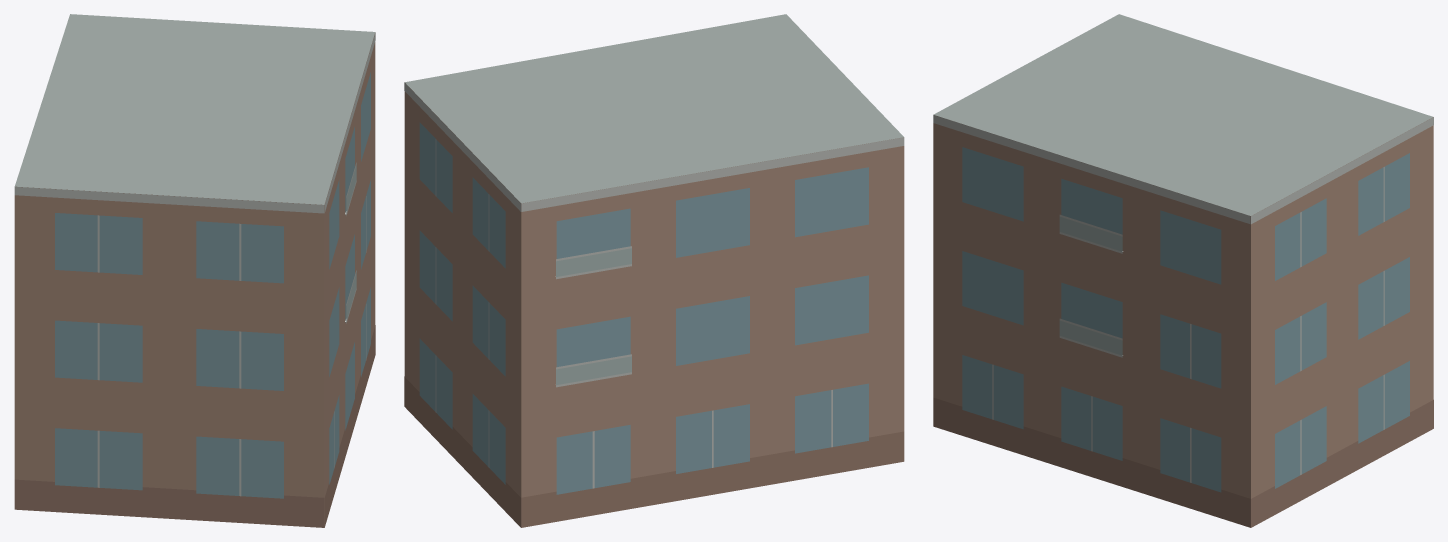
The model's file is survey-upis-32814905.glb.
3 views of the same model, side by side, from view 1: azimuth 30°, elevation 25°; view 2: azimuth 150°, elevation 25°; view 3: azimuth 270°, elevation 25° (orthographic). The views are drawn at different scales.
Visible parts, largest first — view 1: survey-upis-32814905.tmp; view 2: survey-upis-32814905.tmp; view 3: survey-upis-32814905.tmp.
Part boxes in pixels (x1=…): survey-upis-32814905.tmp: x1=14, y1=14, x2=375, y2=527; survey-upis-32814905.tmp: x1=404, y1=14, x2=904, y2=527; survey-upis-32814905.tmp: x1=933, y1=14, x2=1433, y2=527.
Bounding box in the file's own units: 12.73 × 9.15 × 13.32.
